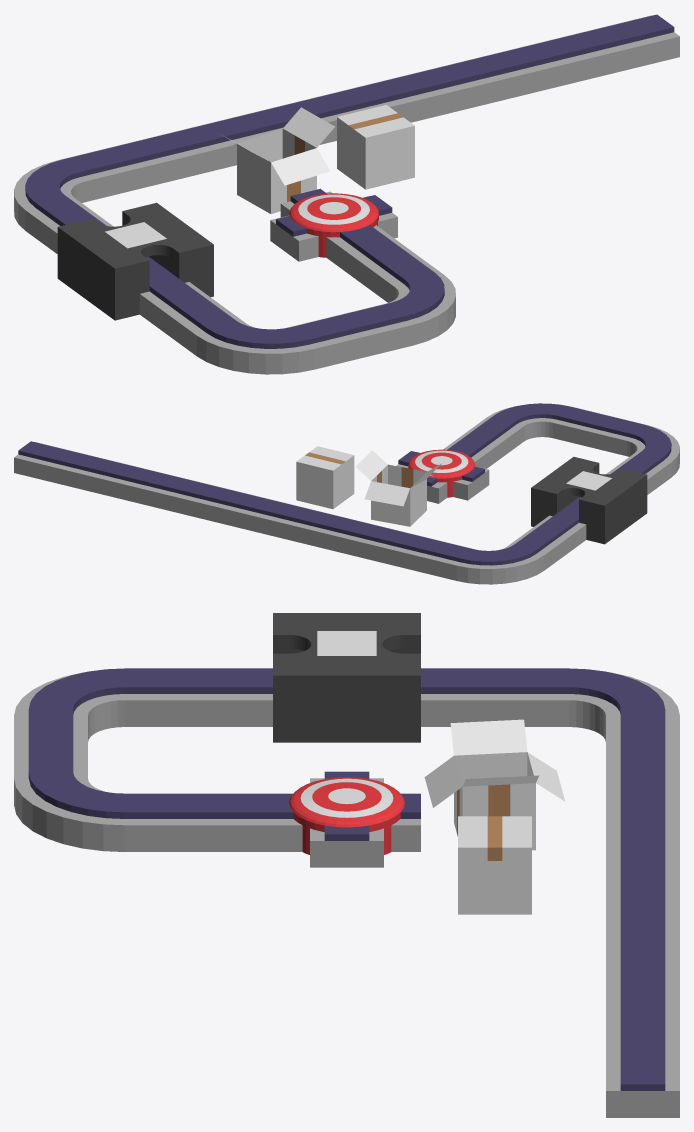
Rendered from hardtoconvey1.fbx.
3 views of the same model, one above another, from view 1: azimuth 30°, elevation 25°; view 2: azimuth 150°, elevation 25°; view 3: azimuth 270°, elevation 25° (orthographic). The views are drawn at different scales.
Visible parts, largest first — view 1: Track, Cube.001, Oven, Launch Pad, Oven.001; view 2: Track, Cube.001, Oven, Launch Pad, Oven.001; view 3: Track, Oven, Cube.001, Launch Pad, Oven.001.
Boxes of the visible parts, x1,y1,x2,y2 form: Track: (14, 14, 679, 374); Cube.001: (224, 105, 414, 213); Oven: (57, 202, 213, 320); Launch Pad: (289, 193, 378, 257); Oven.001: (105, 222, 166, 248); Track: (14, 403, 679, 584); Cube.001: (296, 446, 441, 526); Oven: (531, 456, 647, 544); Launch Pad: (408, 449, 474, 497); Oven.001: (566, 471, 611, 490); Track: (14, 668, 679, 1117); Oven: (273, 613, 420, 742); Cube.001: (424, 719, 565, 914); Launch Pad: (289, 777, 404, 854); Oven.001: (317, 631, 376, 655).
Size of the model in its own units: 1400 by 130 by 900.
